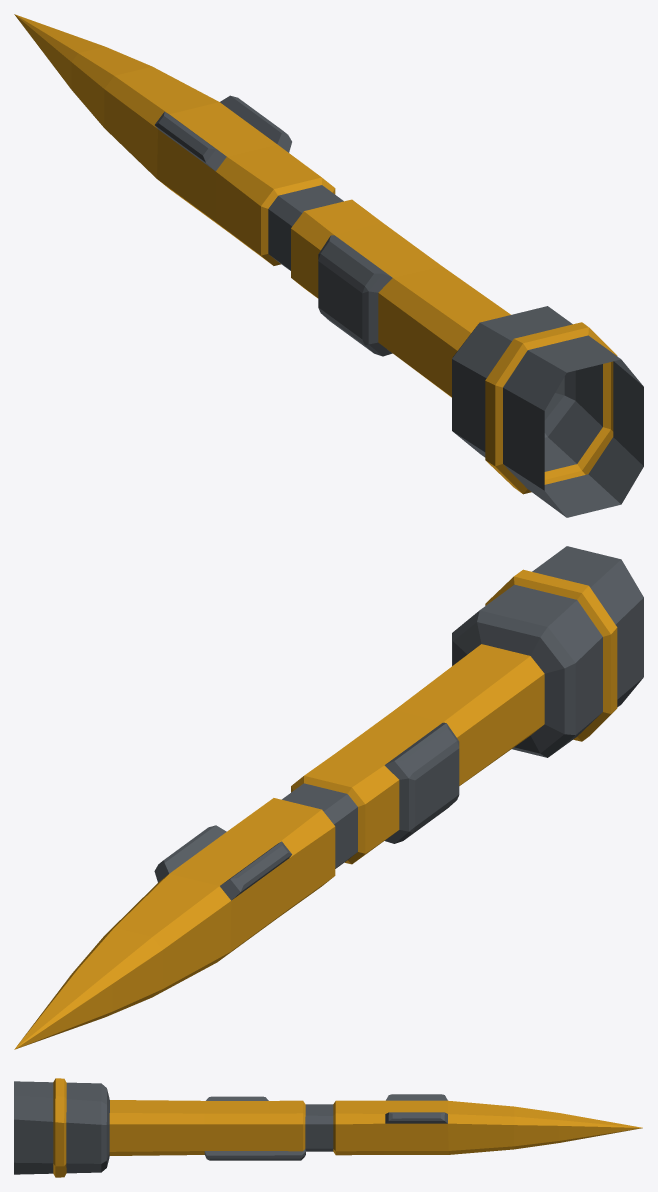
The model's file is Mothership_02_Tip_Yellow.fbx.
The picture shows the model from 3 angles, top to bottom: view 1: azimuth 30°, elevation 25°; view 2: azimuth 150°, elevation 25°; view 3: azimuth 270°, elevation 25°; orthographic projection. The views are drawn at different scales.
Parts seen in each view (by area): view 1: Mothership_02_Tip_Yellow; view 2: Mothership_02_Tip_Yellow; view 3: Mothership_02_Tip_Yellow.
Part boxes in pixels (x1,y1,x2,y2): Mothership_02_Tip_Yellow: (14,14,643,517); Mothership_02_Tip_Yellow: (14,546,643,1049); Mothership_02_Tip_Yellow: (14,1078,642,1177).
Bounding box in the file's own units: 283 × 324 × 2257.
Materials: 1 (1 with a texture image).
